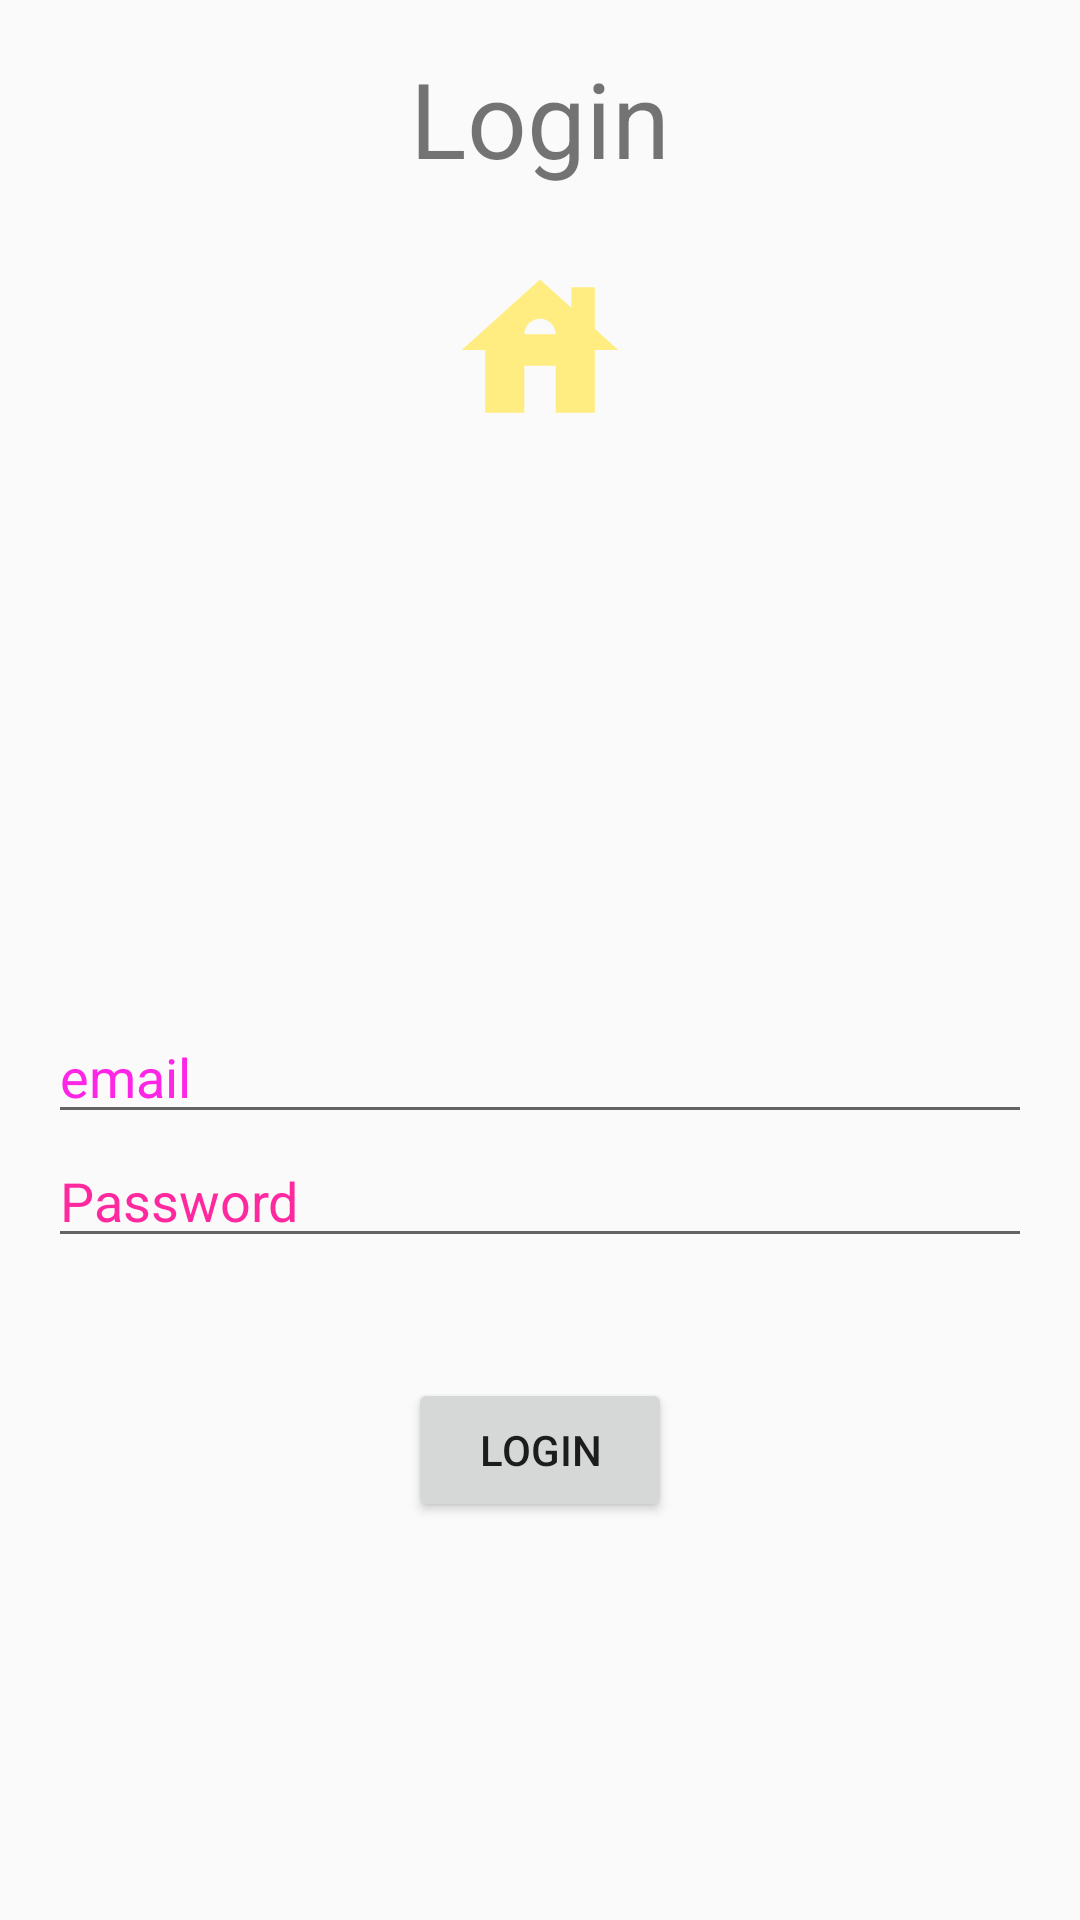

Icons on this 1080px×1920px Android screen, each with its box as (x1, y1, x2, y2):
home: (462, 280, 618, 413)
